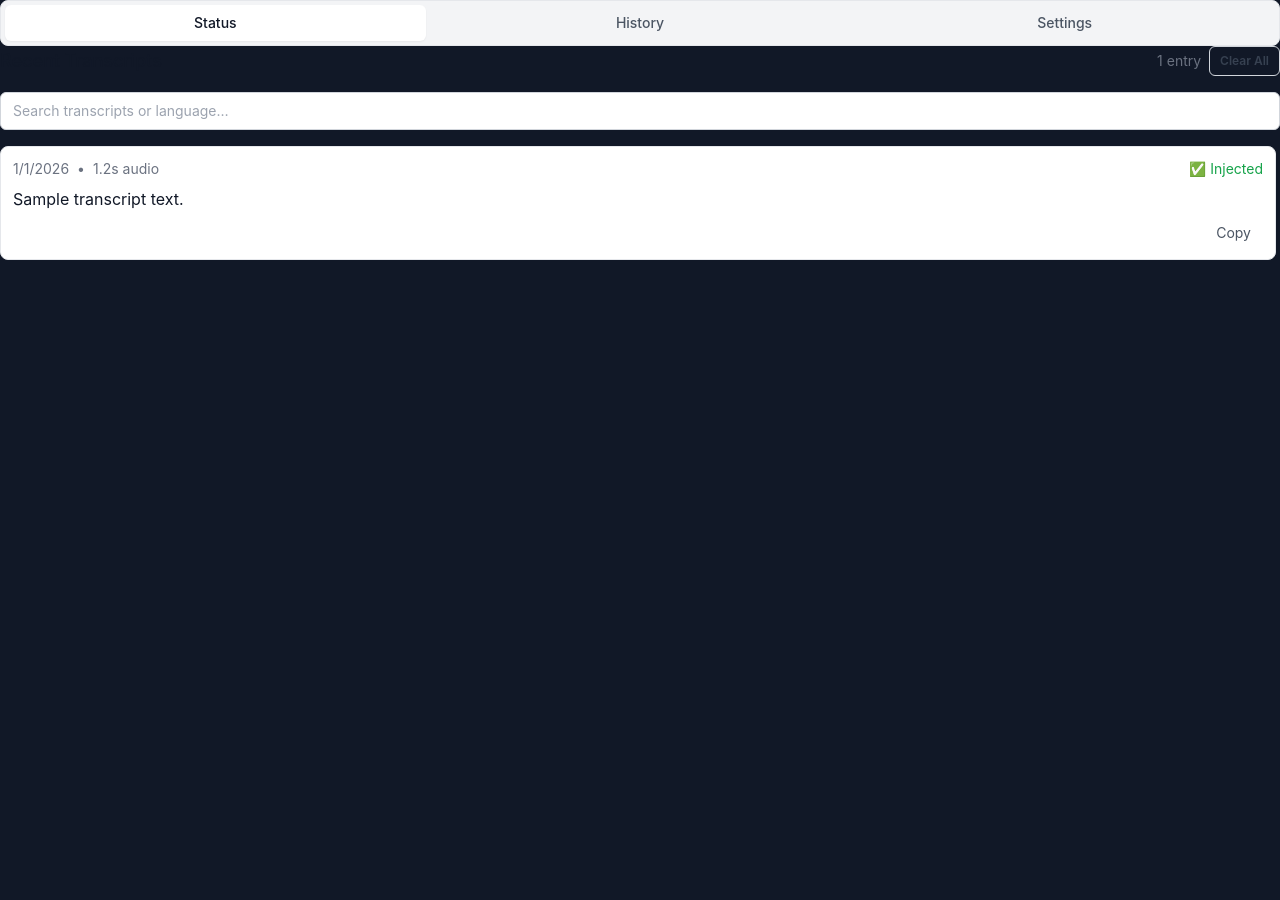
Test: Accessibility Regression Coverage › all interactive elements expose accessible names and logs ARIA coverage
Click the button with test id "history-clear-all-button": (1245, 61) [1209, 46, 1279, 76]
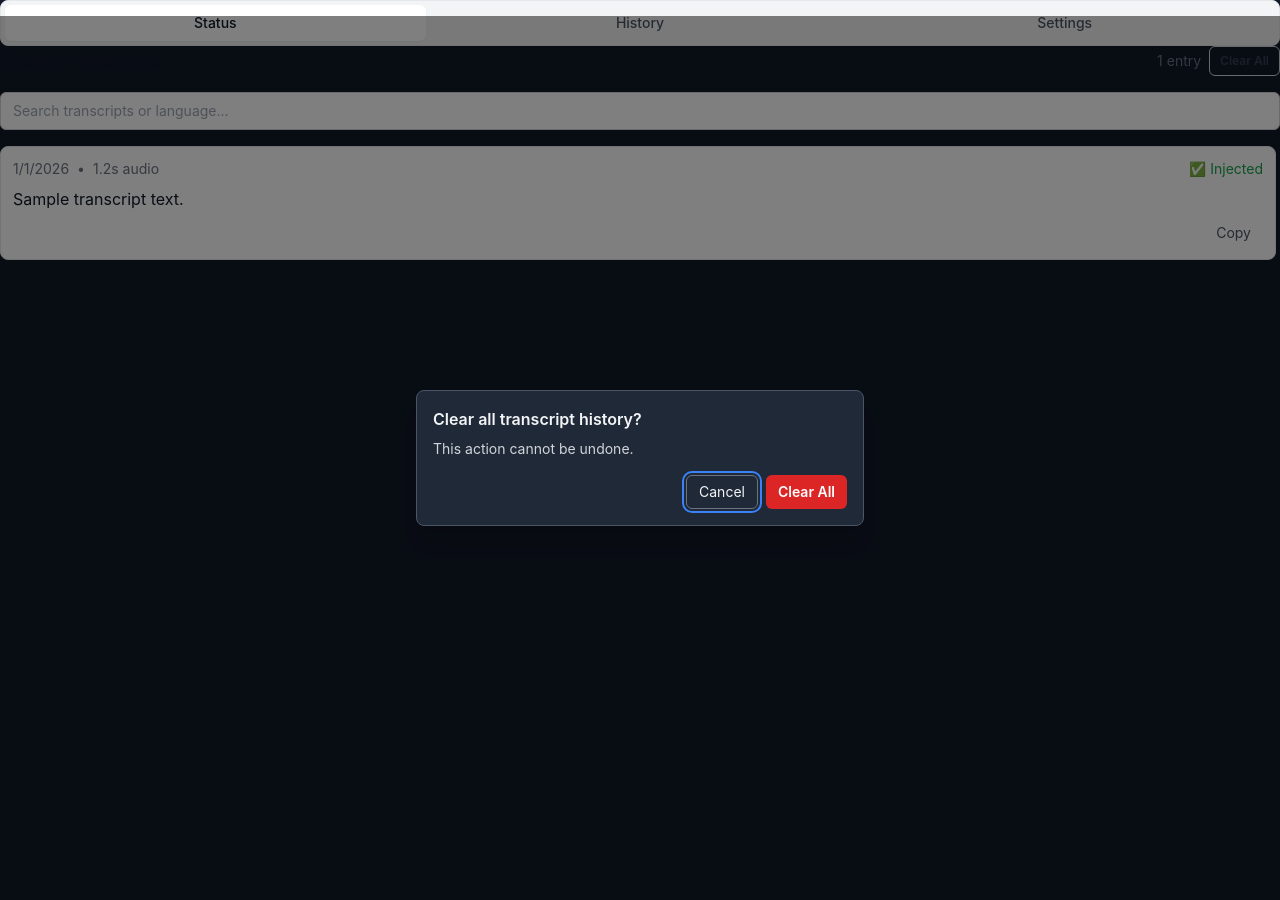
Now the dialog is shown, box [416, 390, 864, 526]
